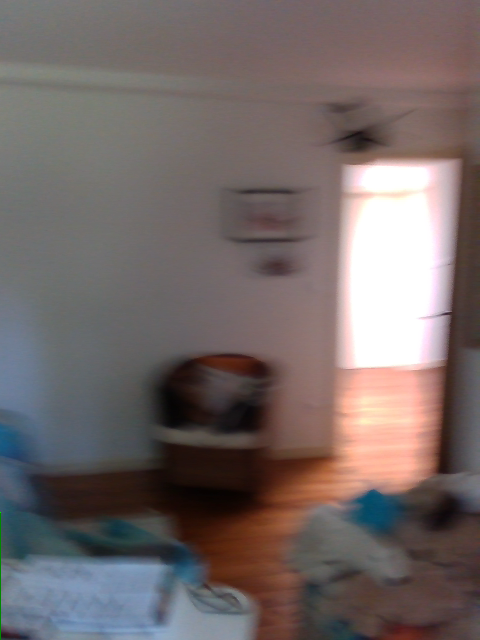open: (327, 151, 475, 480)
